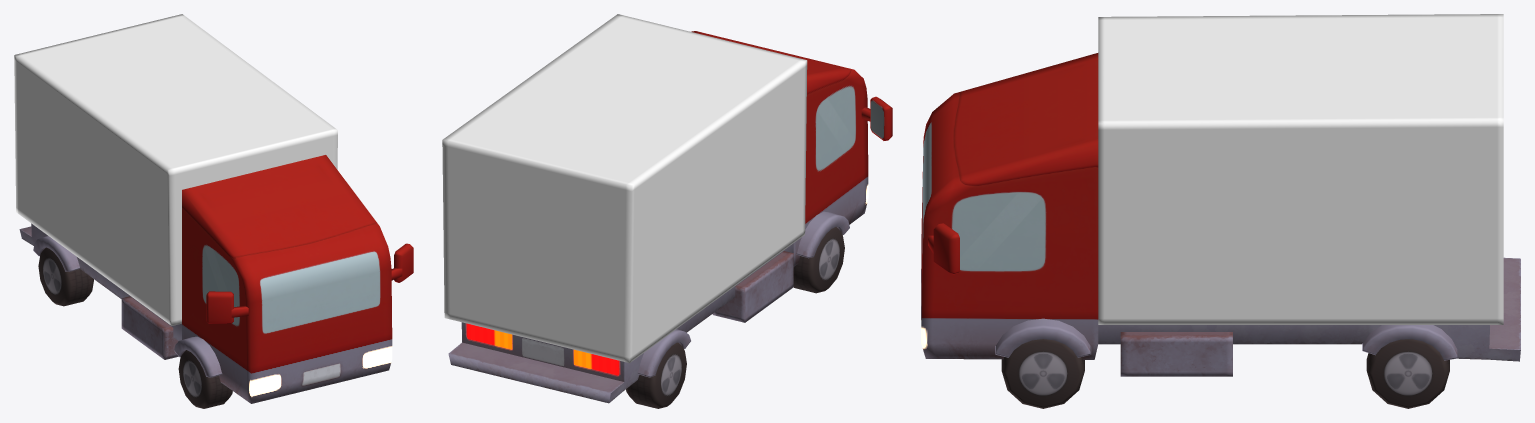
The model's file is Truck.fbx.
3 views of the same model, side by side, from view 1: azimuth 30°, elevation 25°; view 2: azimuth 150°, elevation 25°; view 3: azimuth 270°, elevation 25° (orthographic). The views are drawn at different scales.
Parts seen in each view (by area): view 1: Truck; view 2: Truck; view 3: Truck.
Boxes of the visible parts, box(x1,y1,x2,y2) form: Truck: box(14, 14, 413, 408); Truck: box(442, 14, 892, 408); Truck: box(921, 14, 1520, 408).
Bounding box in the file's own units: 94.68 × 98.89 × 184.
